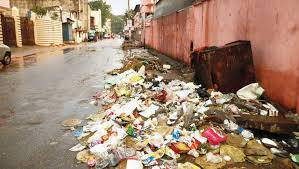garbage: (142, 99, 280, 169), (80, 115, 237, 169), (106, 73, 188, 169)
